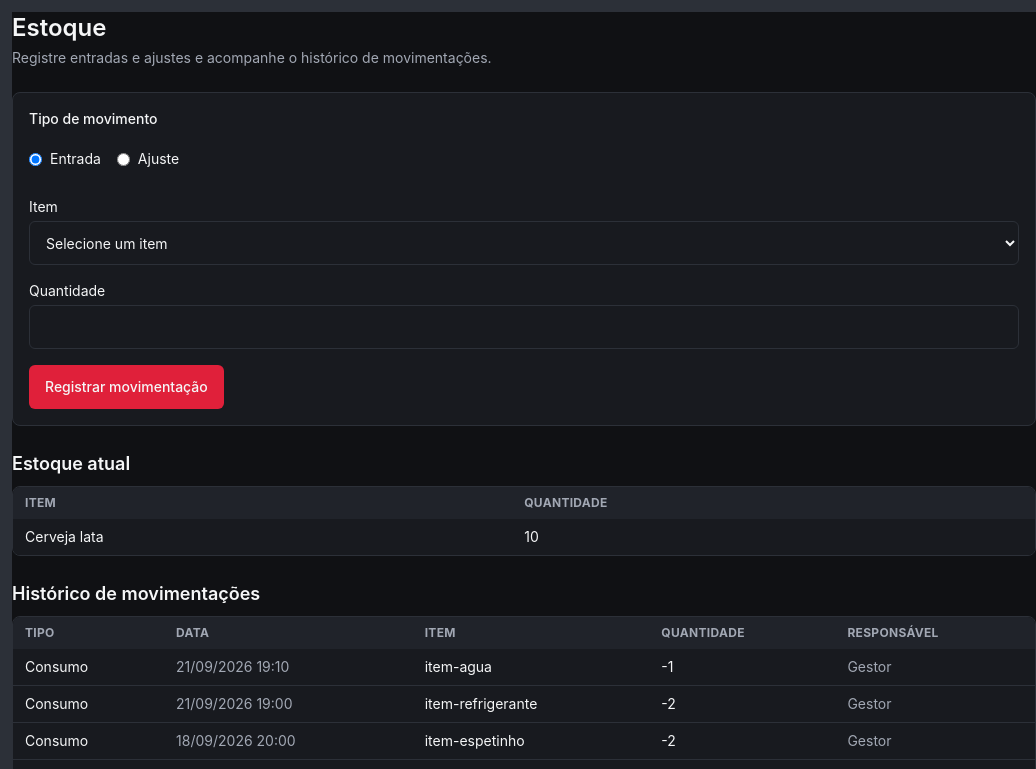
InventoryView › prevents submission and shows a validation message when no item is selected
The image size is (1036, 769).
Check: the text "10" is shown, box [524,528,539,545]
Type "5" into the field labelled "Quantidade". click: [524, 327]
box: [29,305,1019,349]
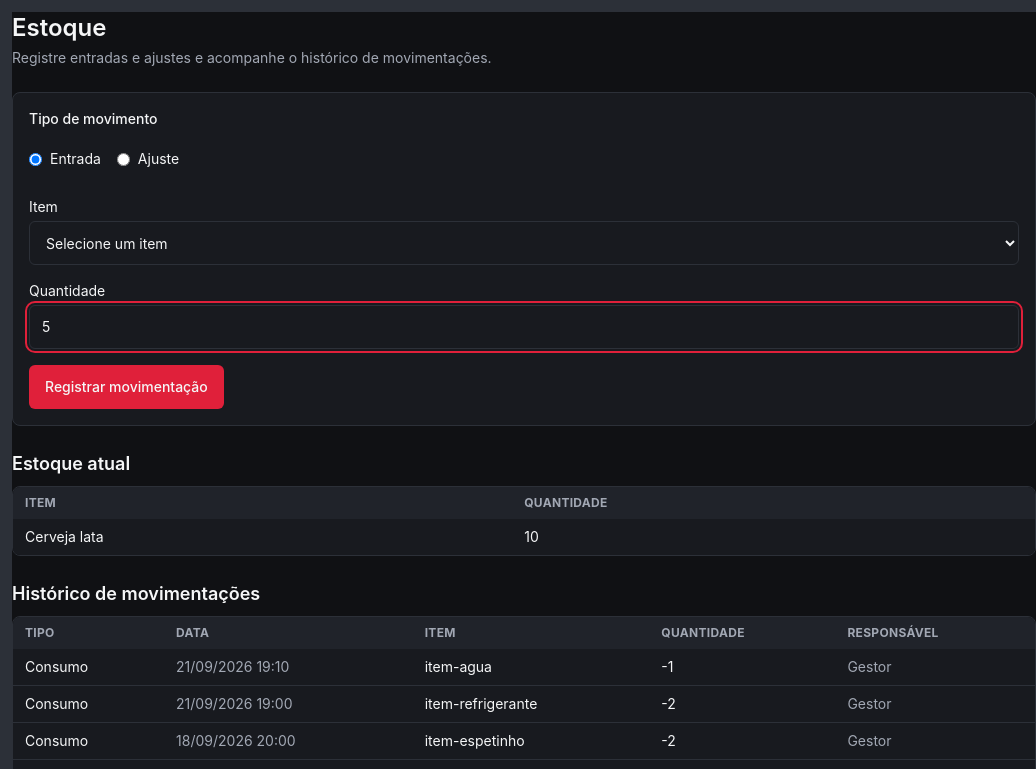
Click the button "Registrar movimentação". click: [126, 387]
box: [29,365,224,409]
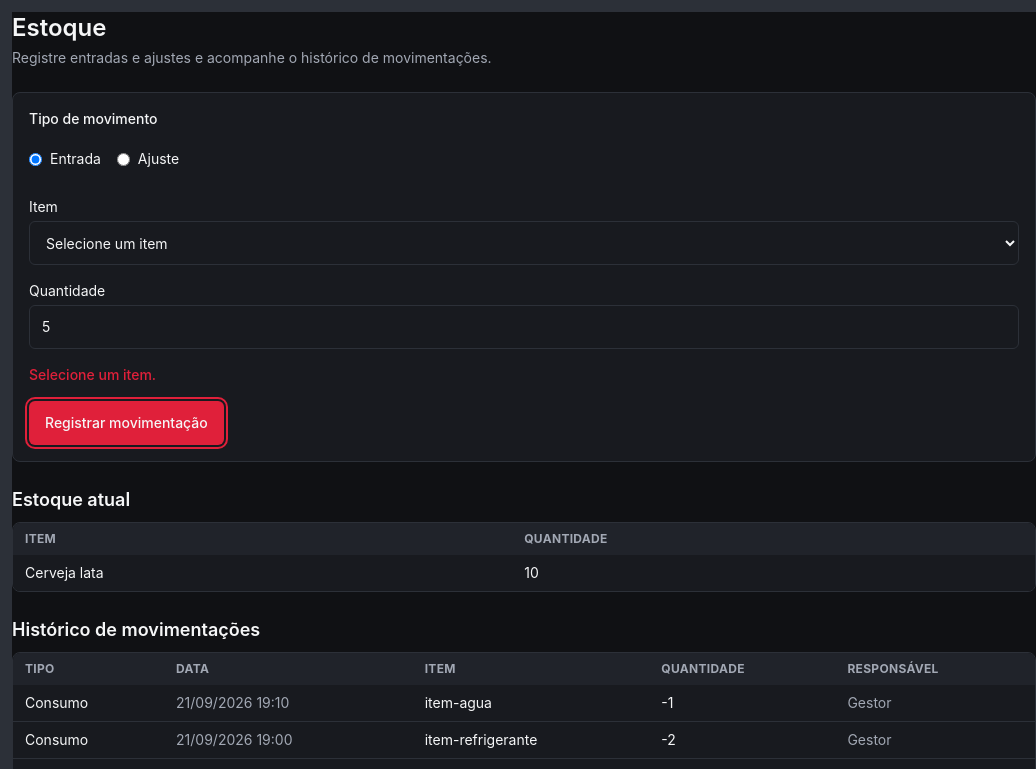
Check: the text "Selecione um item." is shown, box [29,366,156,383]
